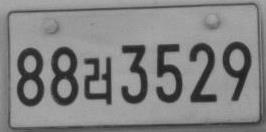2: (188, 41, 217, 102)
3: (120, 43, 148, 104)
5: (155, 43, 183, 103)
8: (49, 46, 79, 106), (16, 46, 44, 107)
9: (221, 40, 252, 101)
러: (83, 56, 112, 105)
